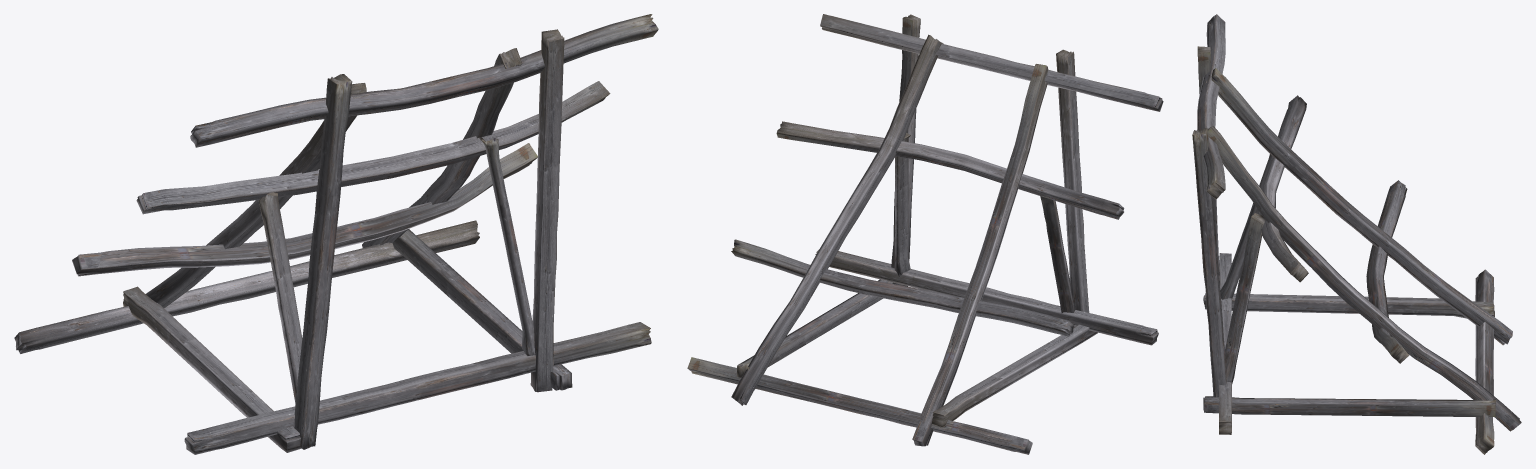
File: SM_OldCeramicRoofTiles_01_12_frame.fbx
3 views of the same model, side by side, from view 1: azimuth 30°, elevation 25°; view 2: azimuth 150°, elevation 25°; view 3: azimuth 270°, elevation 25° (orthographic). The views are drawn at different scales.
Visible parts, largest first — view 1: sm_OldCeramicRoofTiles_01_12_frame_LOD0; view 2: sm_OldCeramicRoofTiles_01_12_frame_LOD0; view 3: sm_OldCeramicRoofTiles_01_12_frame_LOD0.
Boxes of the visible parts, <box> form: sm_OldCeramicRoofTiles_01_12_frame_LOD0: <box>14,14,658,454</box>; sm_OldCeramicRoofTiles_01_12_frame_LOD0: <box>687,14,1163,454</box>; sm_OldCeramicRoofTiles_01_12_frame_LOD0: <box>1192,14,1521,454</box>.
Bounding box in the file's own units: 490 × 608 × 485.
